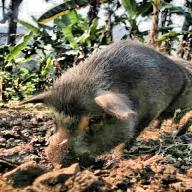boar: (32, 49, 192, 163)
